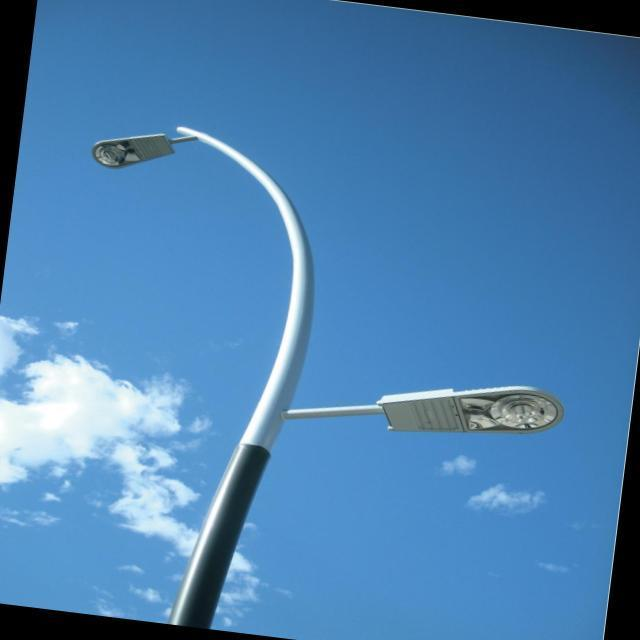off: (385, 336, 552, 466), (60, 106, 244, 206)
